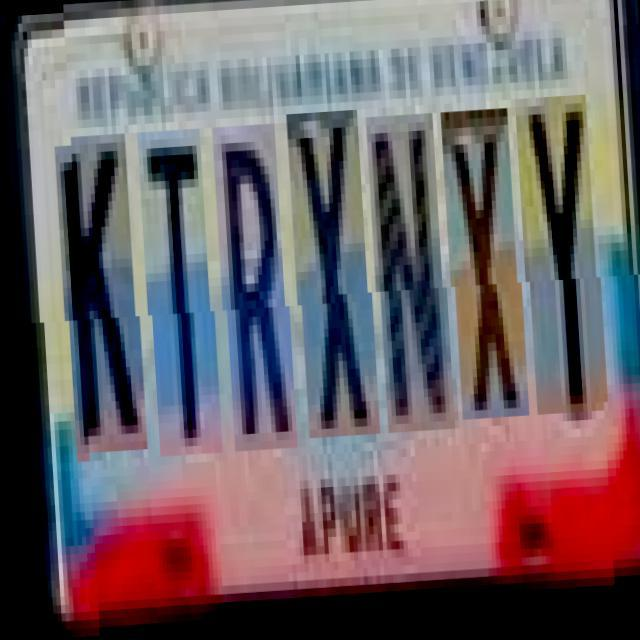K: (56, 134, 142, 454)
N: (368, 119, 449, 438)
R: (214, 128, 292, 454)
T: (139, 132, 217, 458)
X: (288, 115, 374, 442), (442, 115, 524, 426)
Y: (518, 102, 602, 422)
